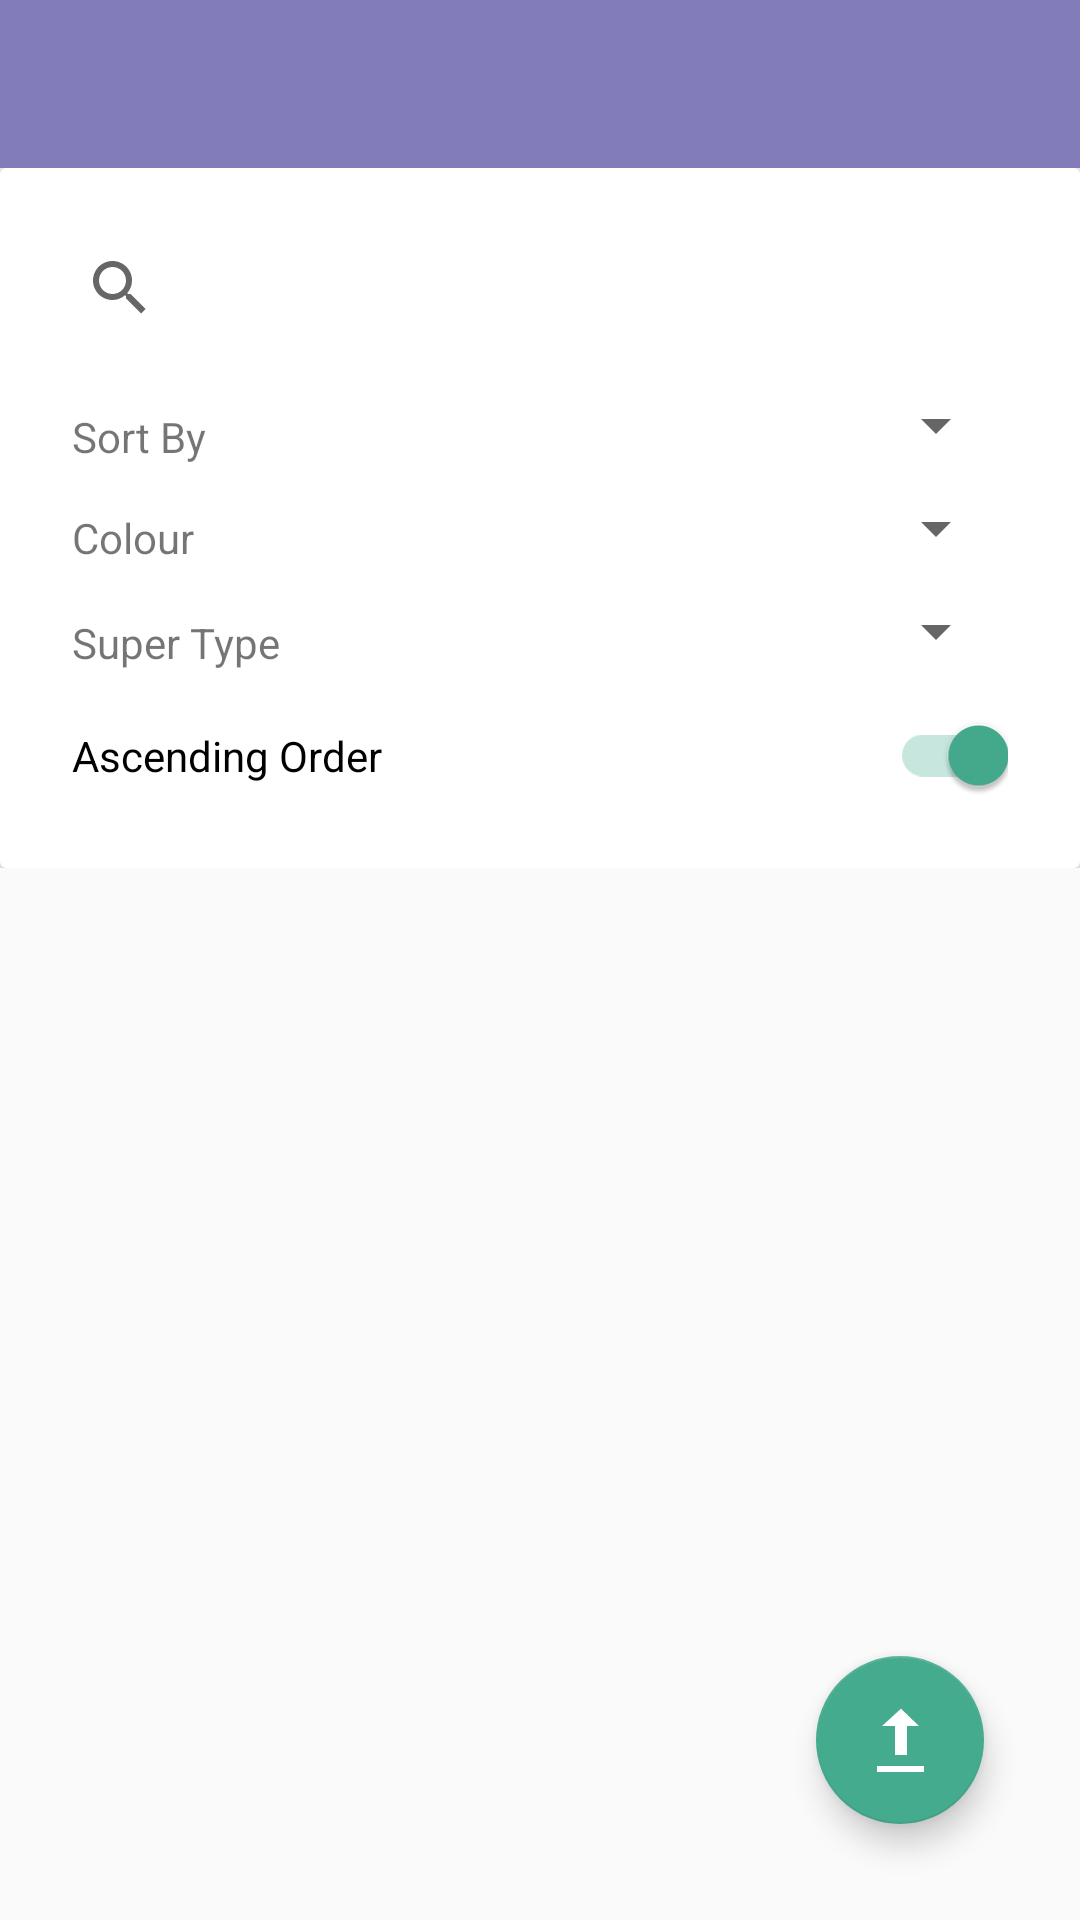

Icon click points for this 1080x1920 phone screenshot, format (x,y):
Scroll to top of page: (900,1740)
